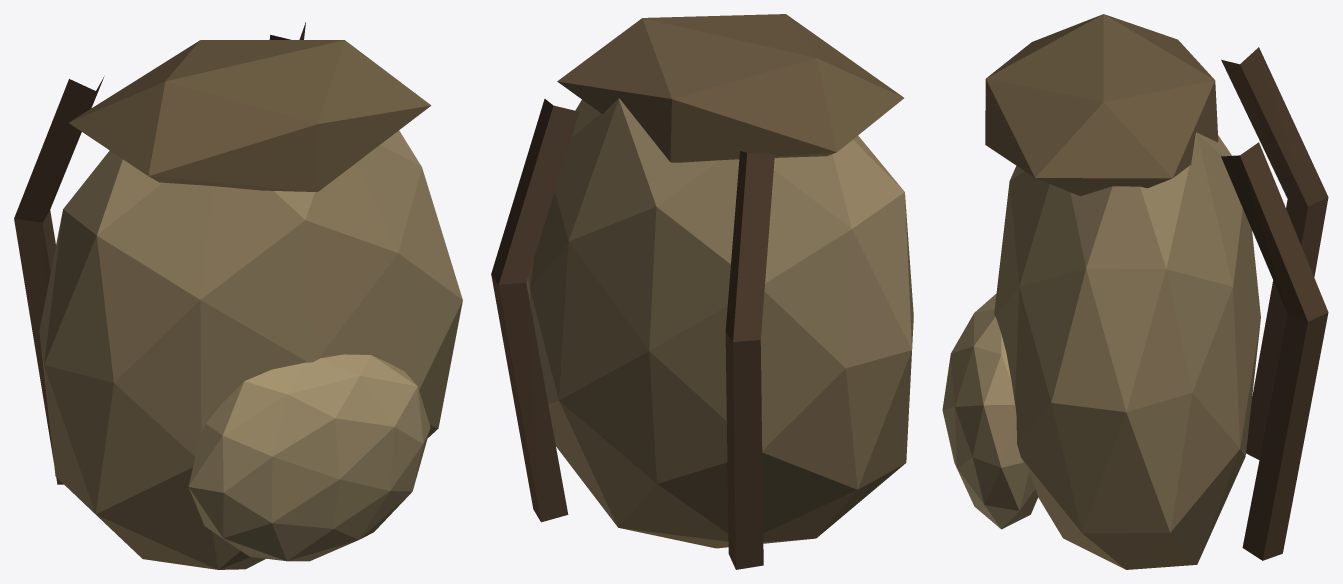
File: bag_canvas.glb
3 views of the same model, side by side, from view 1: azimuth 30°, elevation 25°; view 2: azimuth 150°, elevation 25°; view 3: azimuth 270°, elevation 25° (orthographic). The views are drawn at different scales.
Visible parts, largest first — view 1: bag_canvas_solid; view 2: bag_canvas_solid; view 3: bag_canvas_solid.
Part boxes in pixels (x1,y1,x2,y2): bag_canvas_solid: [14, 22, 462, 569]; bag_canvas_solid: [491, 14, 913, 569]; bag_canvas_solid: [942, 14, 1328, 569].
Bounding box in the file's own units: 0.398 × 0.493 × 0.3399.
